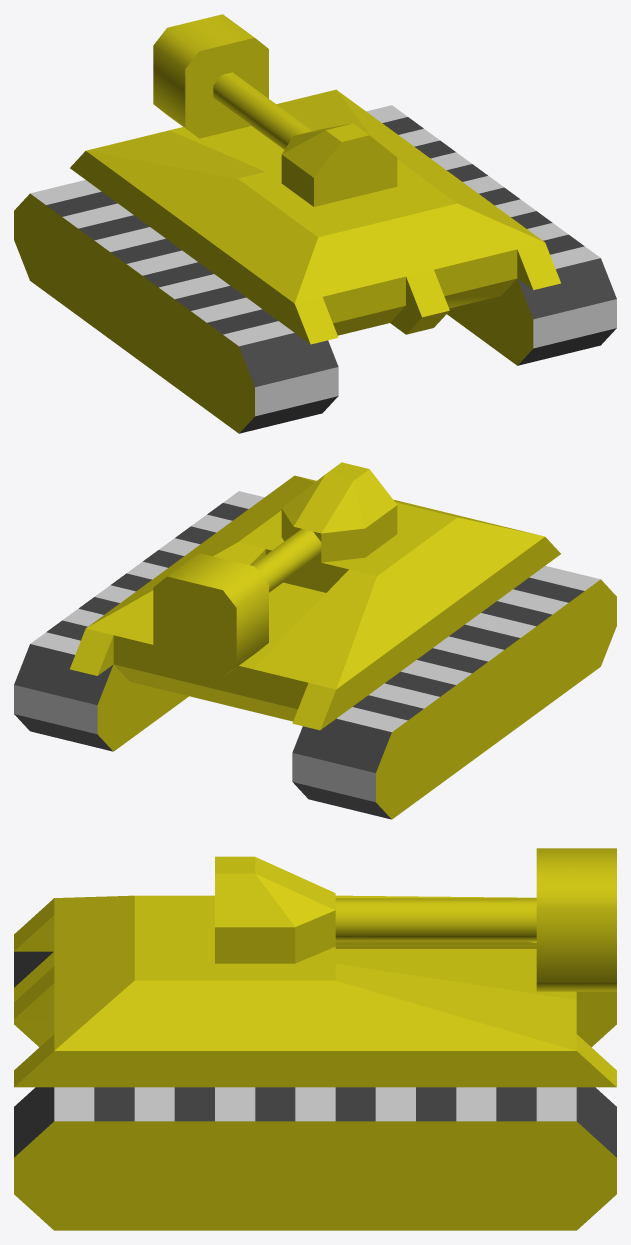
File: enemyD.fbx
The picture shows the model from 3 angles, top to bottom: view 1: azimuth 30°, elevation 25°; view 2: azimuth 150°, elevation 25°; view 3: azimuth 270°, elevation 25°; orthographic projection. The views are drawn at different scales.
Parts seen in each view (by area): view 1: enemyD; view 2: enemyD; view 3: enemyD.
Boxes of the visible parts, x1,y1,x2,y2 form: enemyD: (14, 14, 616, 433); enemyD: (14, 462, 616, 819); enemyD: (14, 848, 616, 1230).
Bounding box in the file's own units: 1.62 × 0.875 × 1.88.
